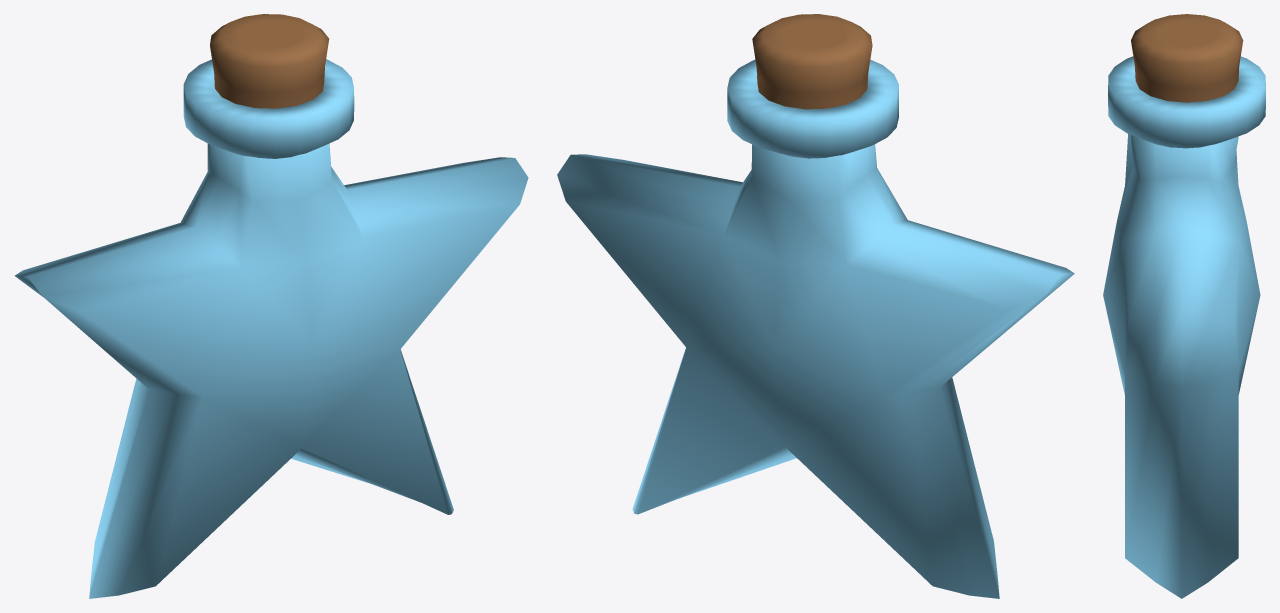
File: FlaskStar.fbx
The picture shows the model from 3 angles, left to right: view 1: azimuth 30°, elevation 25°; view 2: azimuth 150°, elevation 25°; view 3: azimuth 270°, elevation 25°; orthographic projection. The views are drawn at different scales.
Visible parts, largest first — view 1: FlaskStar; view 2: FlaskStar; view 3: FlaskStar.
Boxes of the visible parts, x1,y1,x2,y2 form: FlaskStar: (14,14,528,598); FlaskStar: (557,14,1074,598); FlaskStar: (1103,14,1265,598).
Size of the model in its own units: 45.99 by 46.65 by 14.26.
